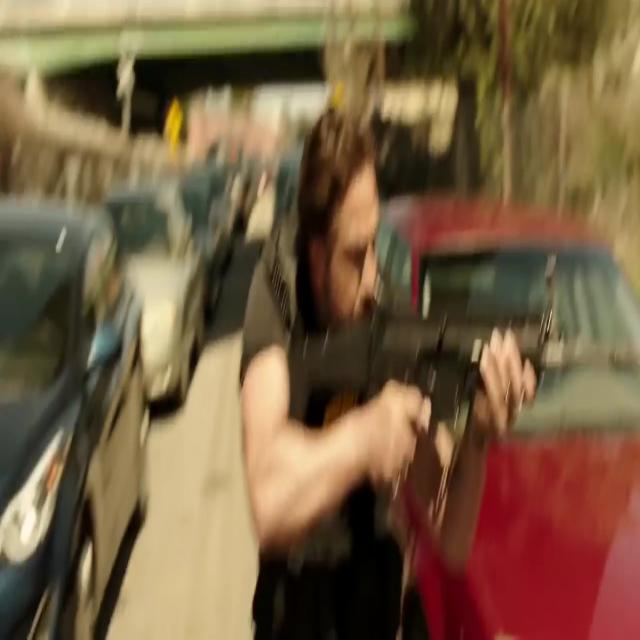Weapon: (266, 250, 581, 470)
